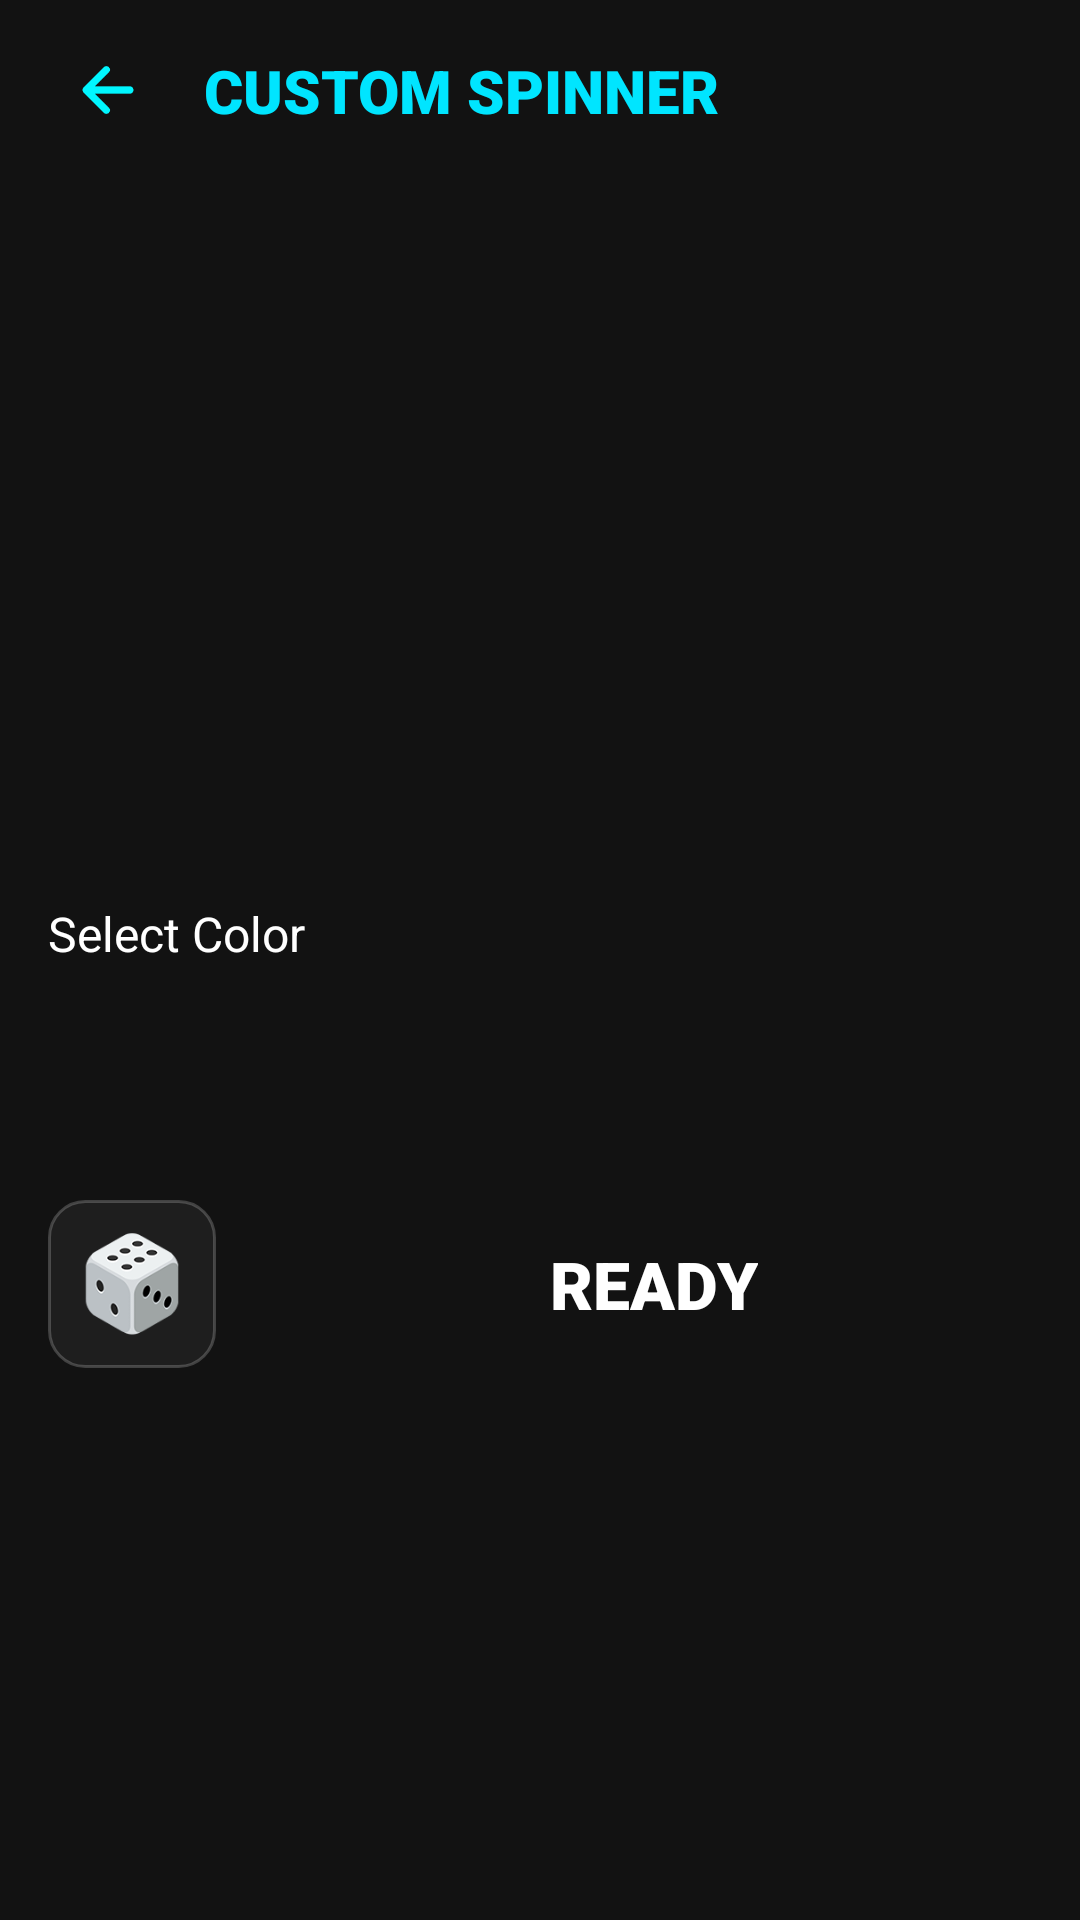

Named icons in this screenshot (1080*1920) and their centers, [x,y]:
back: [108,90]
xucxac: [132,1284]
